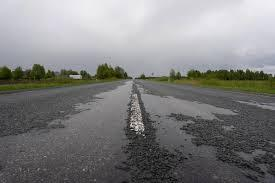Pothole: (122, 89, 163, 147), (239, 92, 275, 128)
